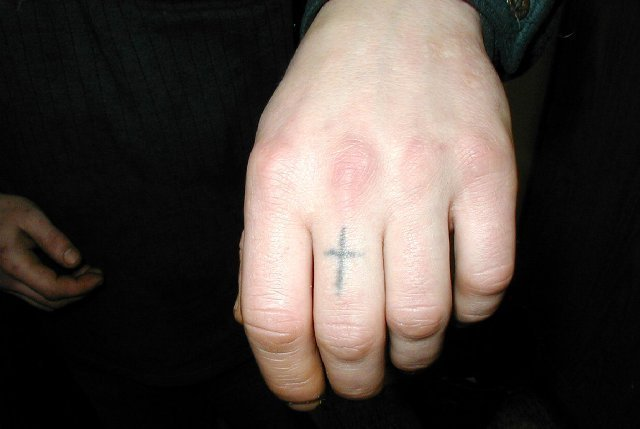tatu9_krest: (324, 231, 365, 302)
